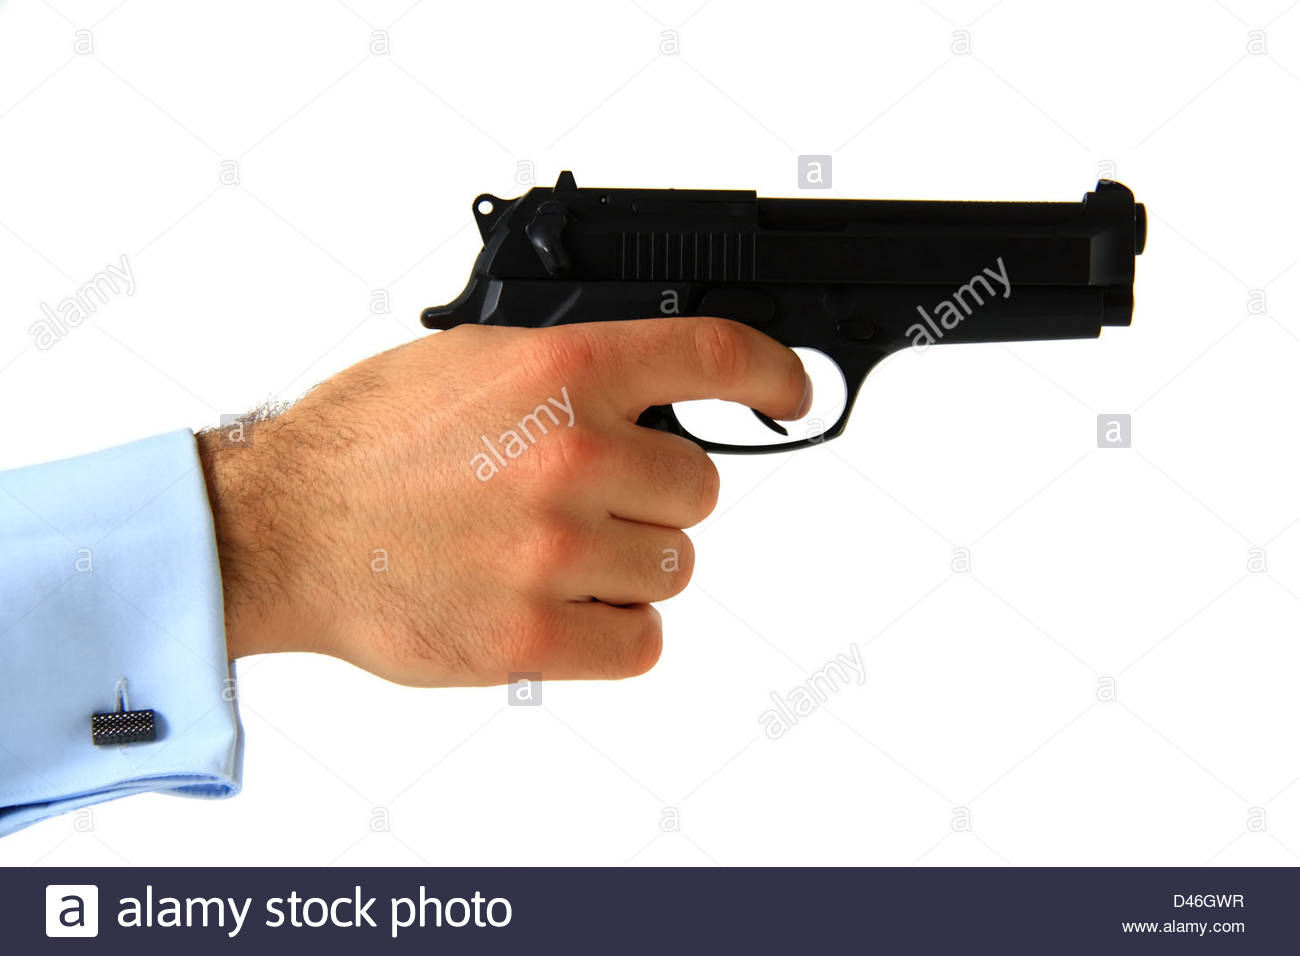pistol: (351, 135, 1212, 711)
